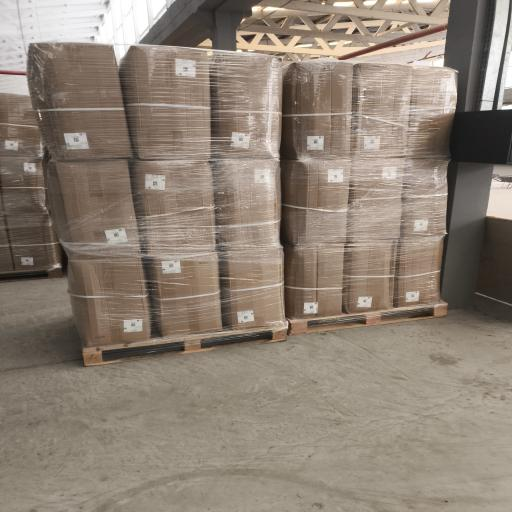pallet: (83, 327, 287, 366), (288, 302, 447, 334), (0, 268, 62, 282)
